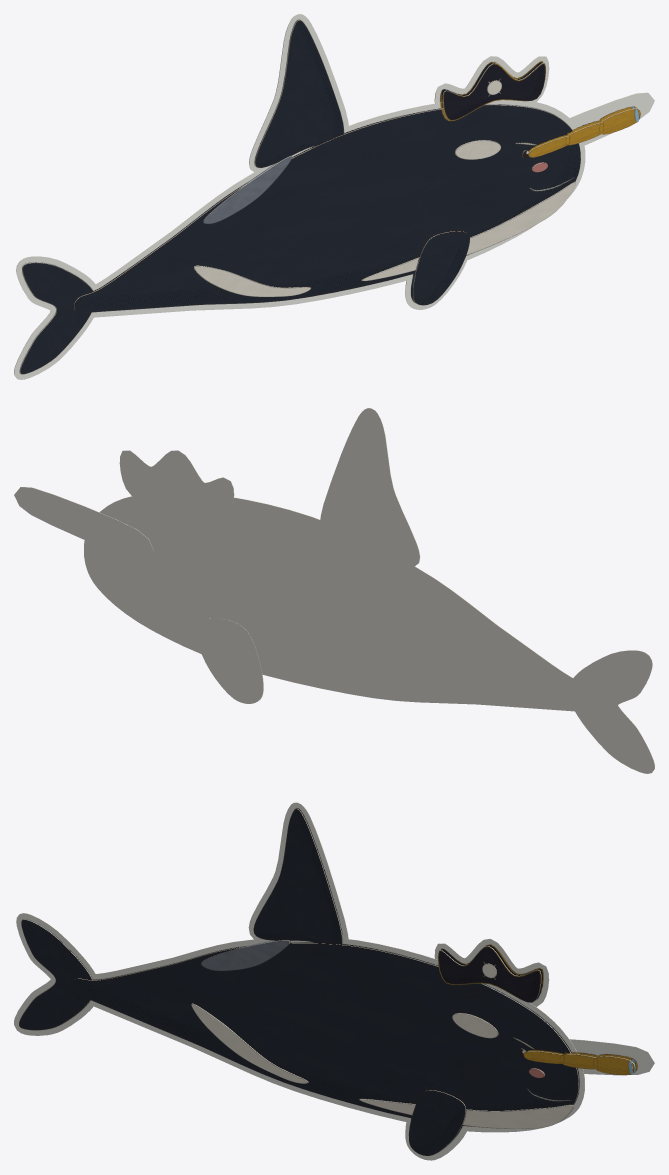
The model's file is grimfin.glb.
The picture shows the model from 3 angles, top to bottom: view 1: azimuth 30°, elevation 25°; view 2: azimuth 150°, elevation 25°; view 3: azimuth 330°, elevation 25°; orthographic projection.
Parts seen in each view (by area): view 1: grimfin.001; view 2: grimfin.001; view 3: grimfin.001.
Part boxes in pixels (<box>): grimfin.001: <box>14,14,654,379</box>; grimfin.001: <box>14,408,654,773</box>; grimfin.001: <box>14,802,654,1160</box>.
Bounding box in the file's own units: 3.98 × 1.93 × 0.0359.
3 materials, 1 textured.
